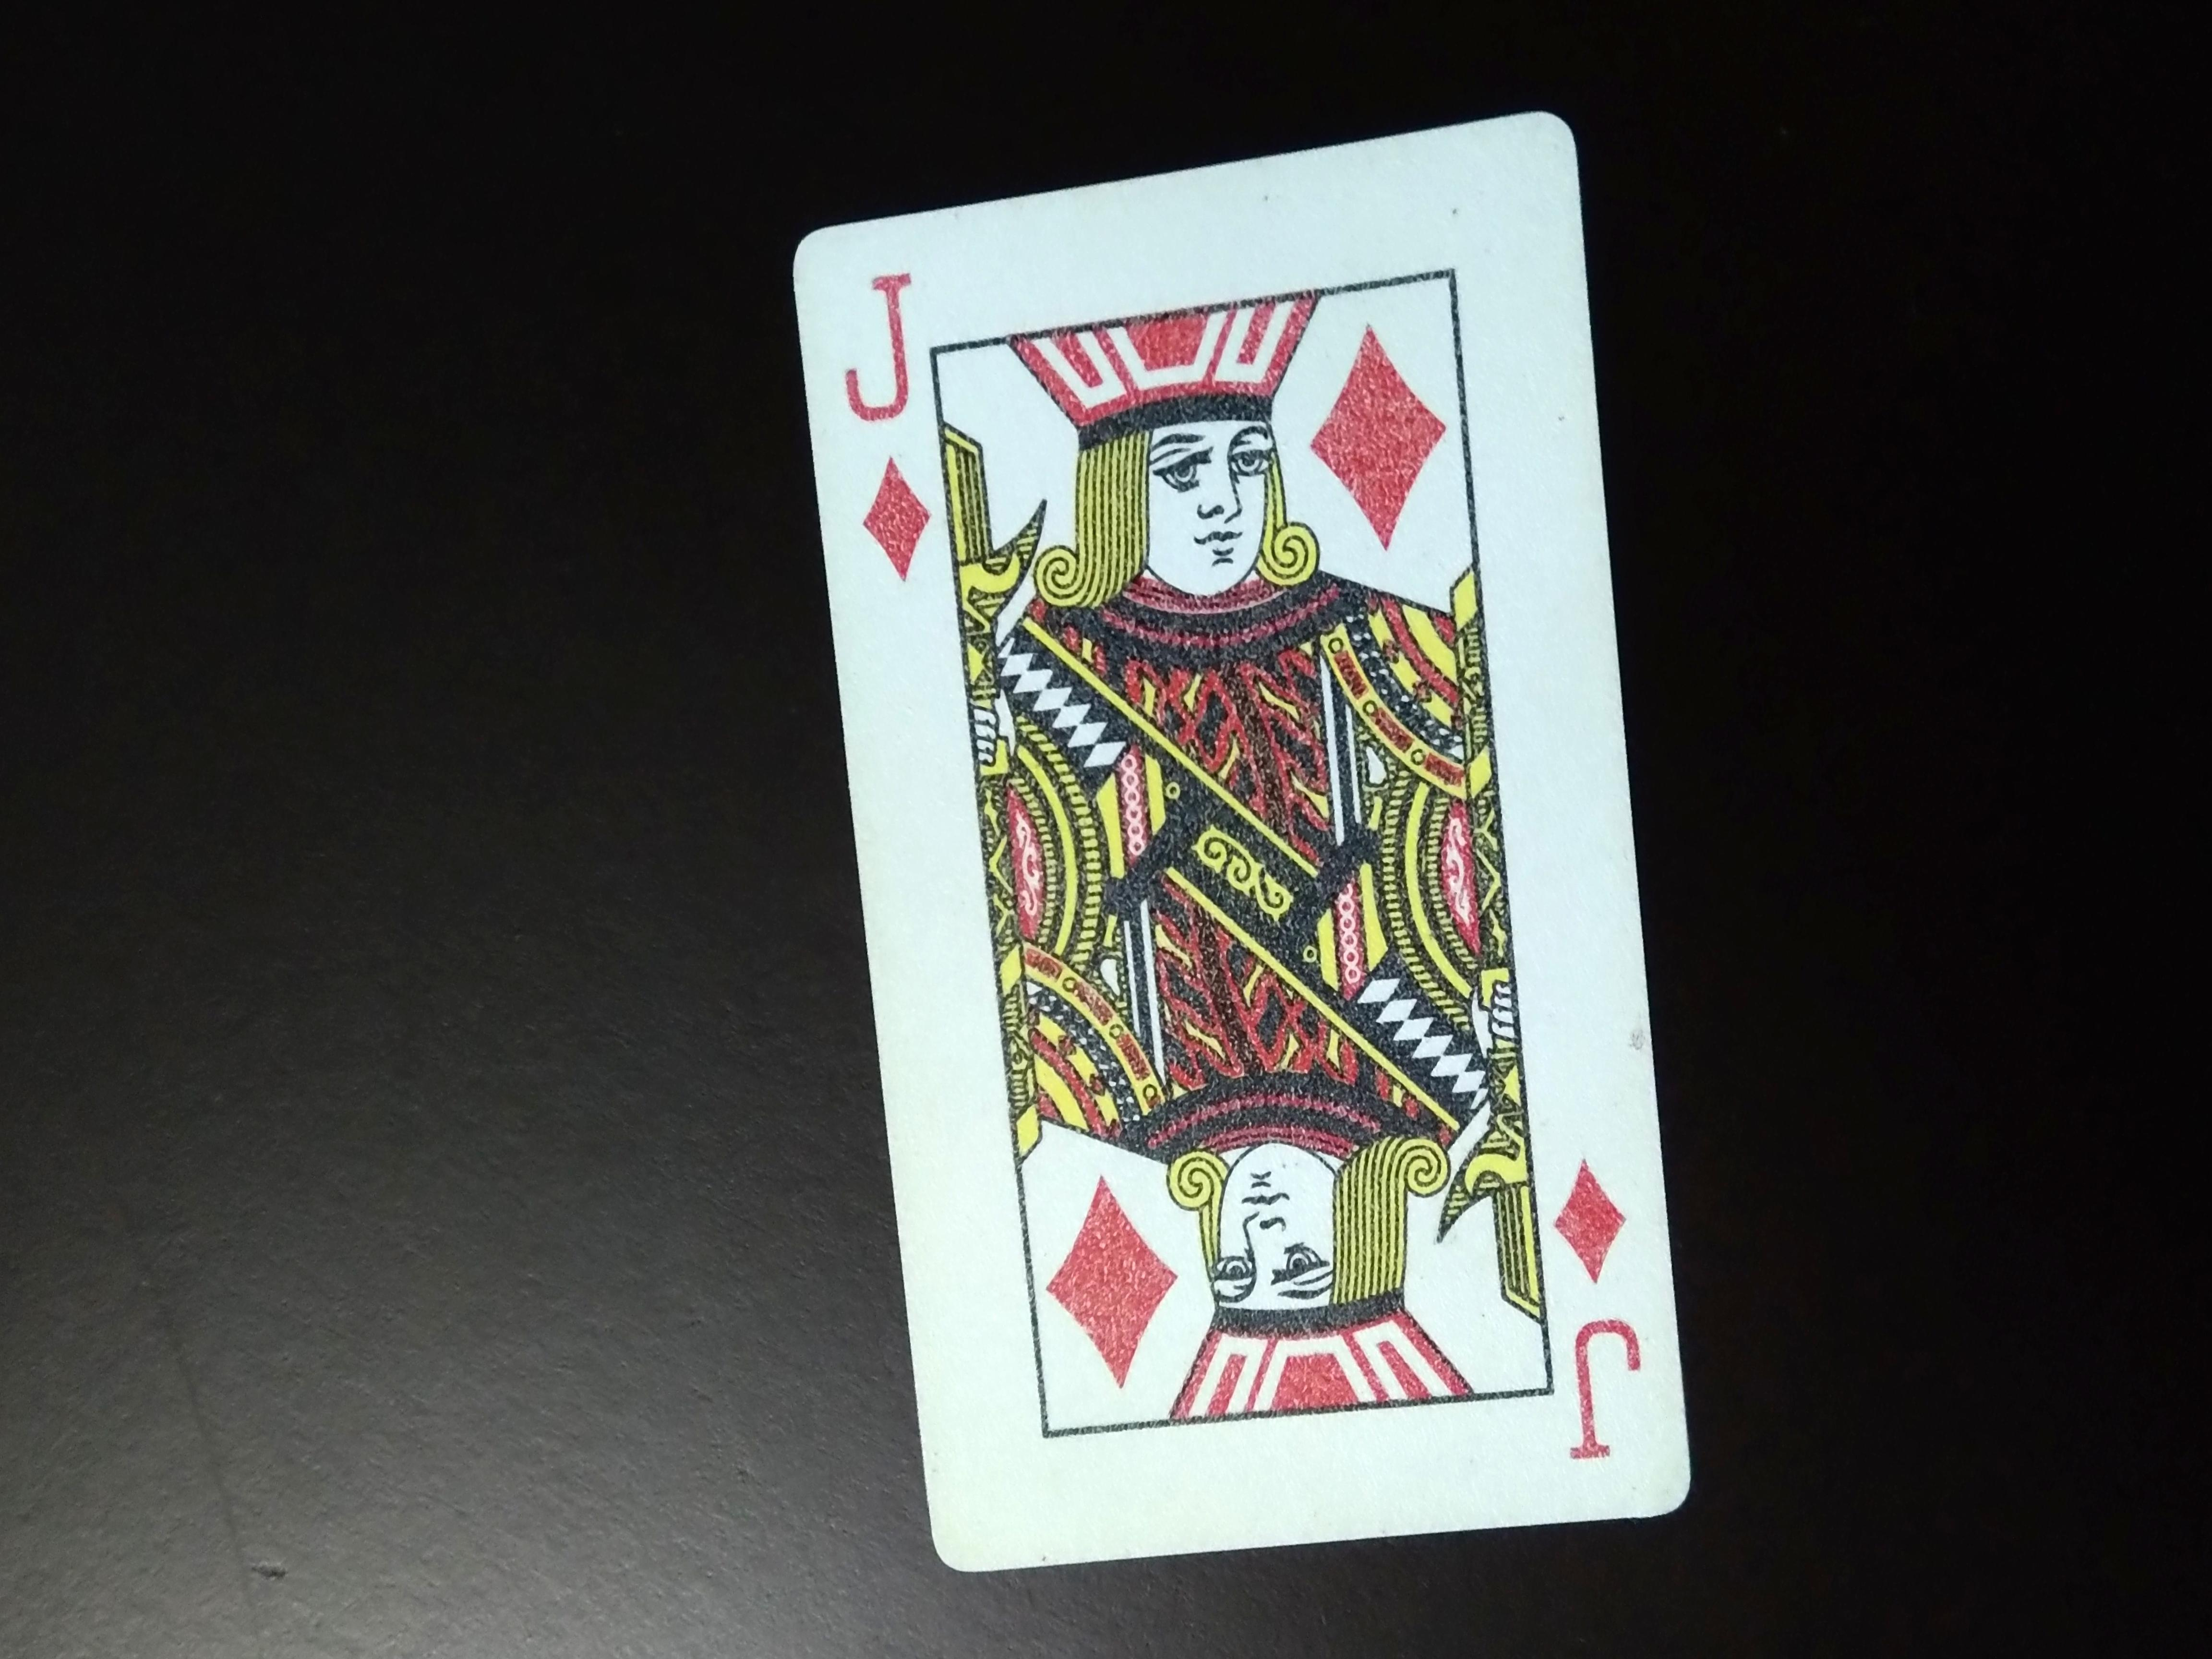JD: (846, 249, 935, 603)
